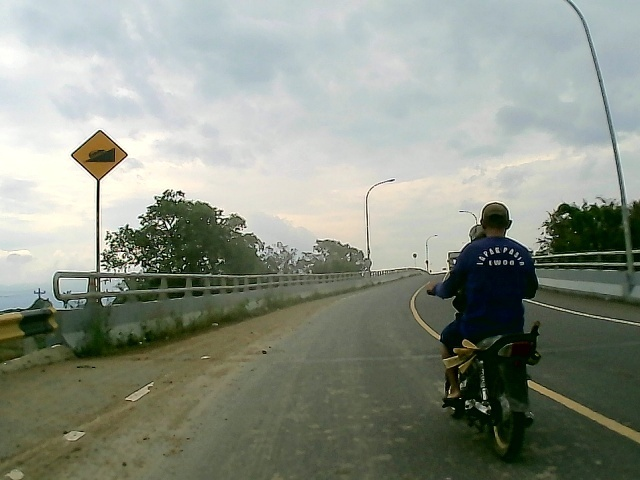Jalanan menanjak: (67, 128, 129, 181)
